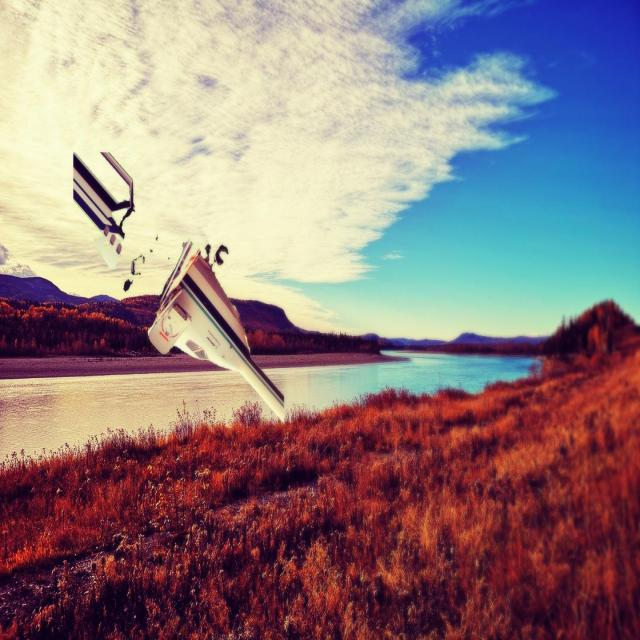airplane: (72, 151, 285, 424)
